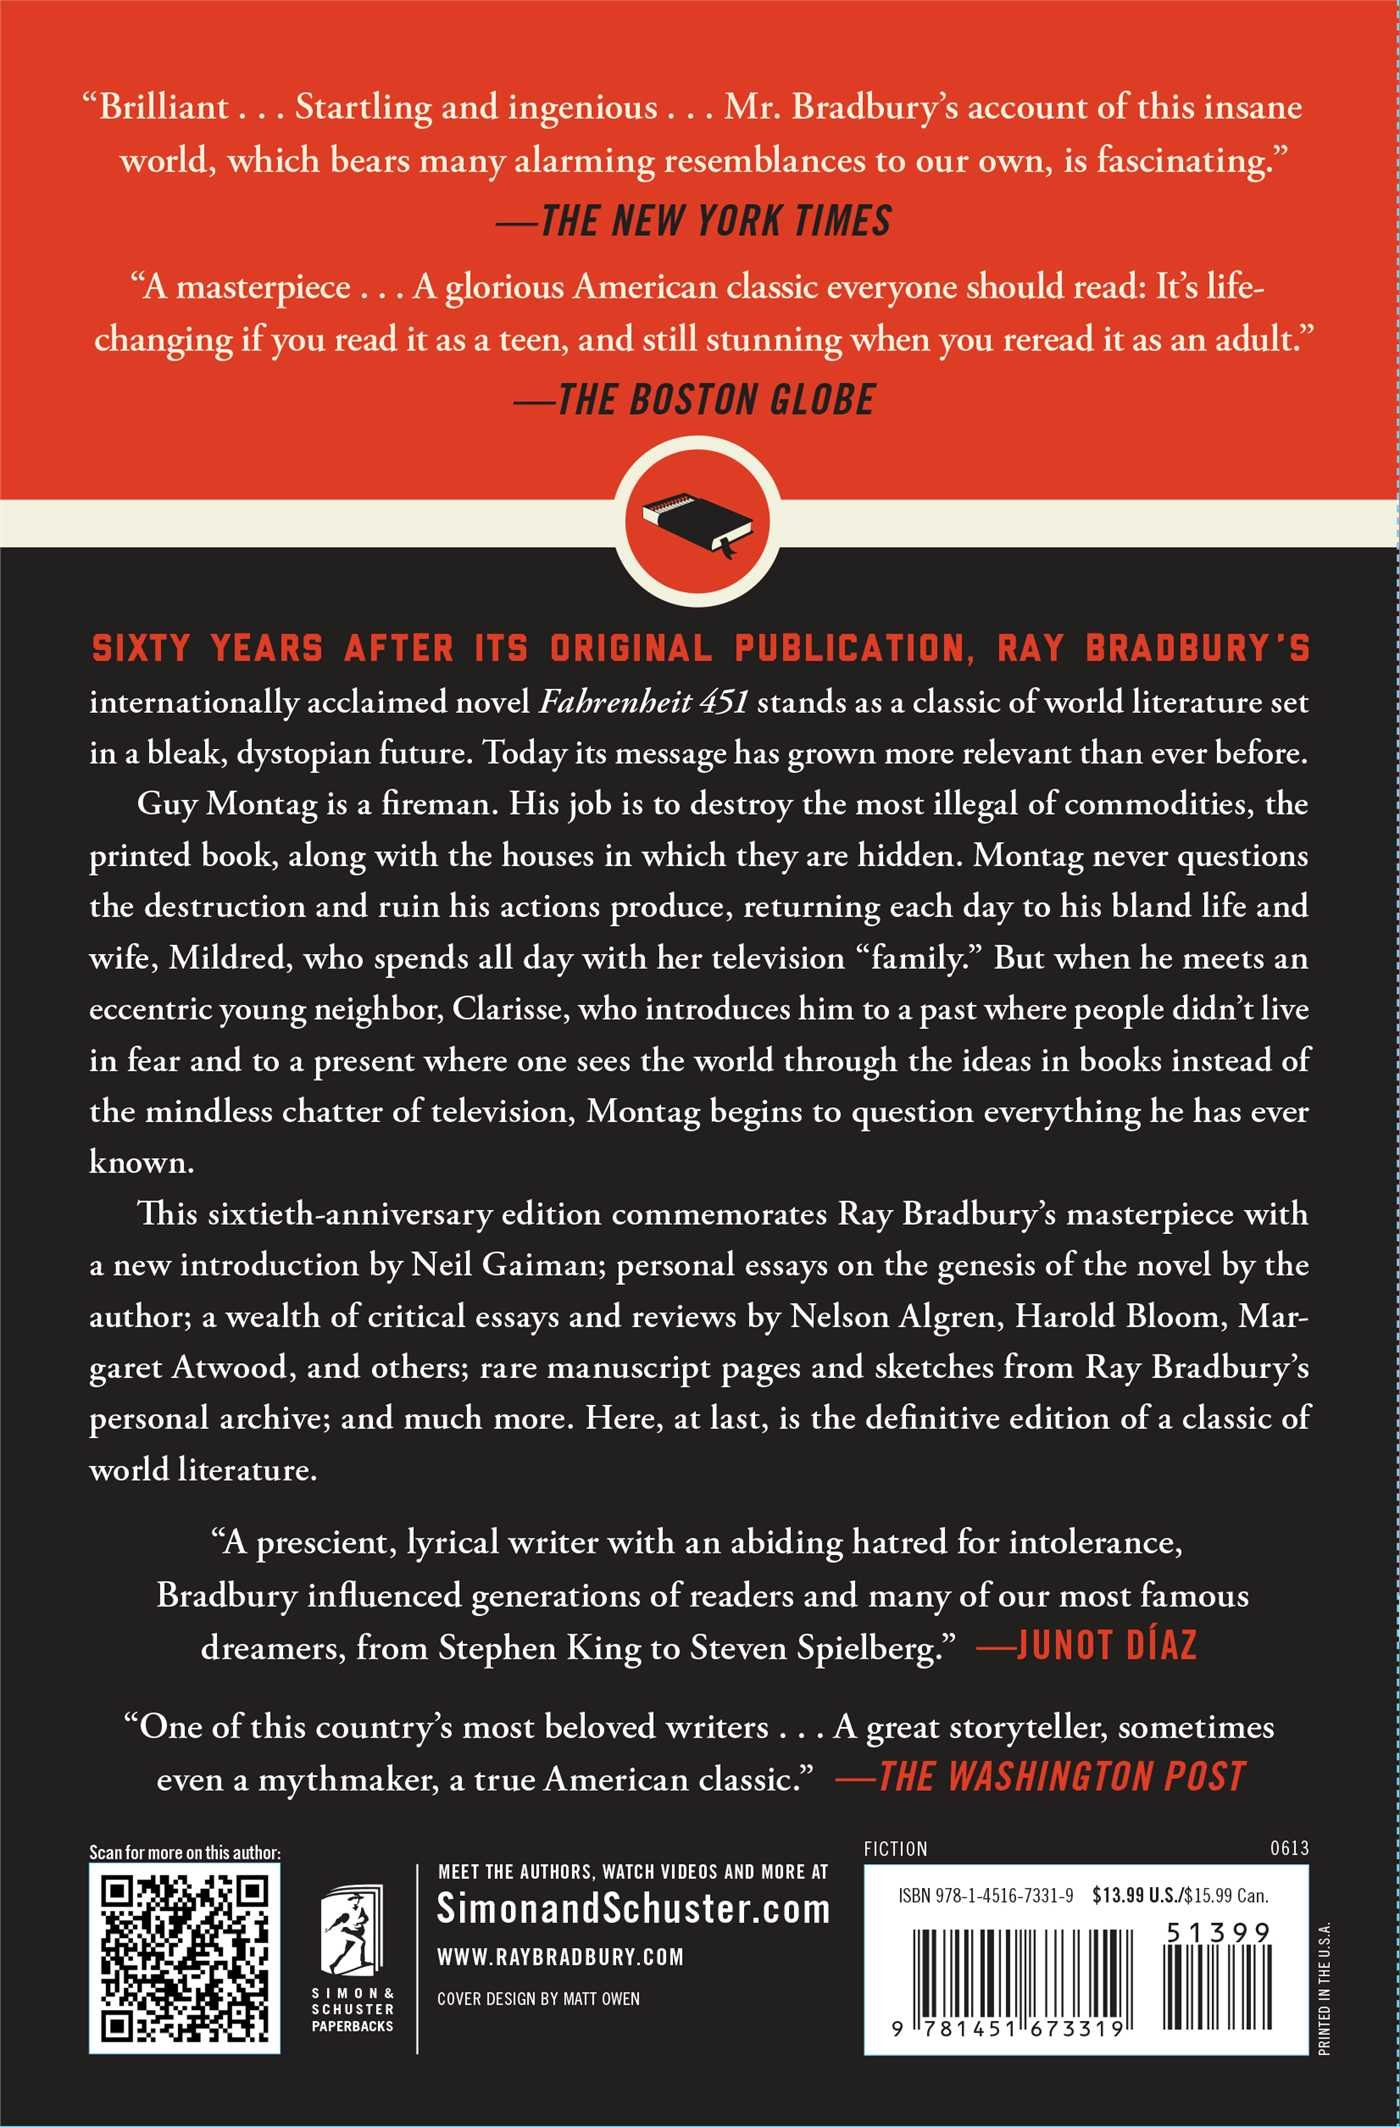barcode: (852, 1866, 1314, 2057)
